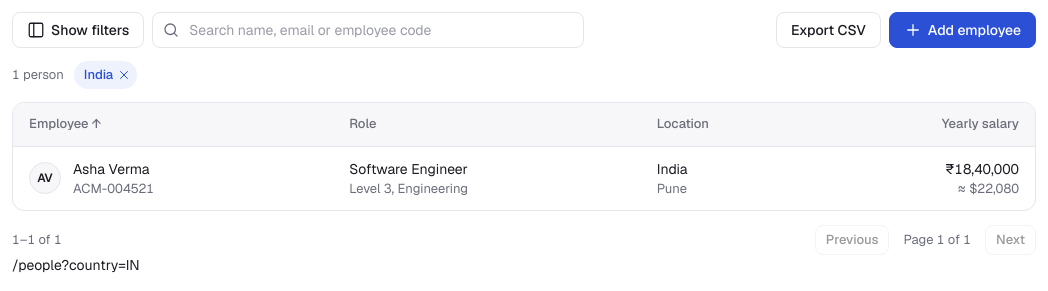
Test: People › opens the employee page from a row
The image size is (1048, 291).
Click the text "Asha Verma" at (114, 169), box [73,159,154,180]
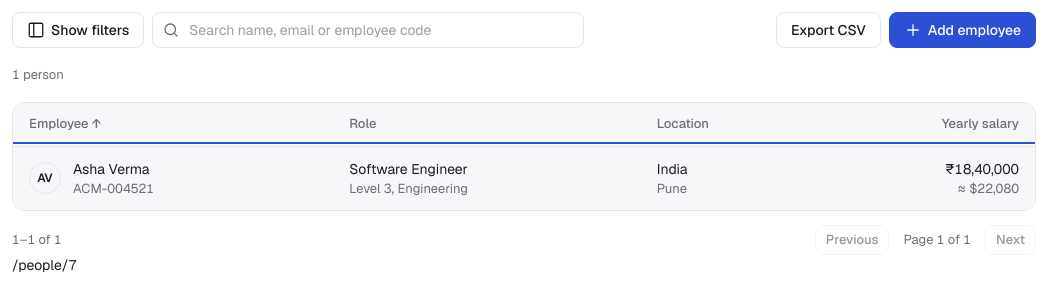
Now the text with test id "location" reads "/people/7", box [12,256,77,274]
